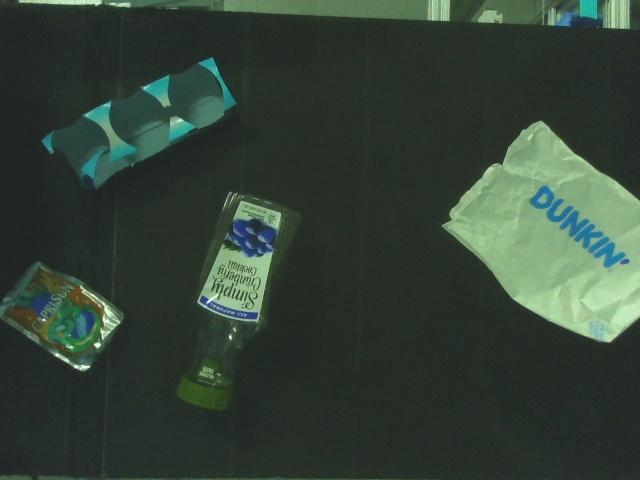cardboard: (41, 57, 238, 192)
paper: (441, 120, 640, 344)
plastic: (173, 189, 304, 412), (0, 259, 126, 373)
